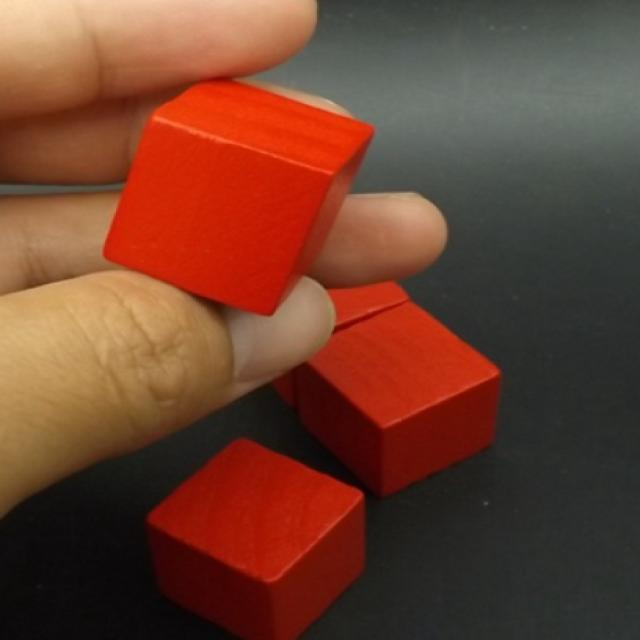red cube: (101, 78, 380, 320), (148, 435, 367, 640), (299, 300, 503, 496)
